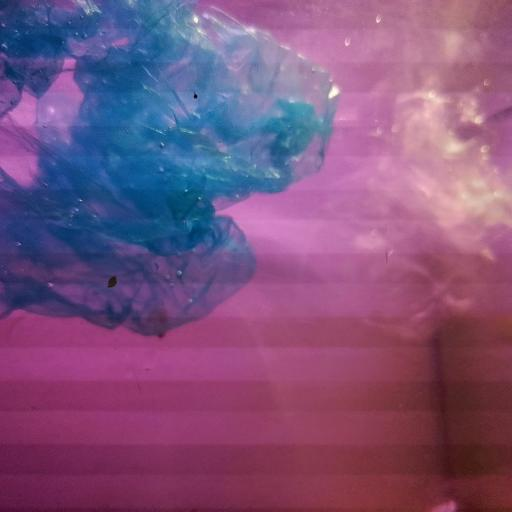plastic_bag: (2, 1, 337, 344), (237, 0, 512, 340)
